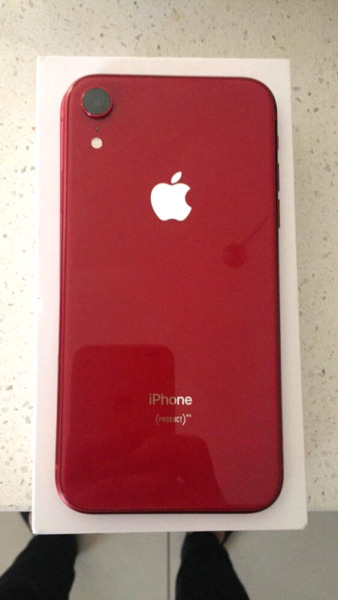apple: (144, 156, 201, 240)
